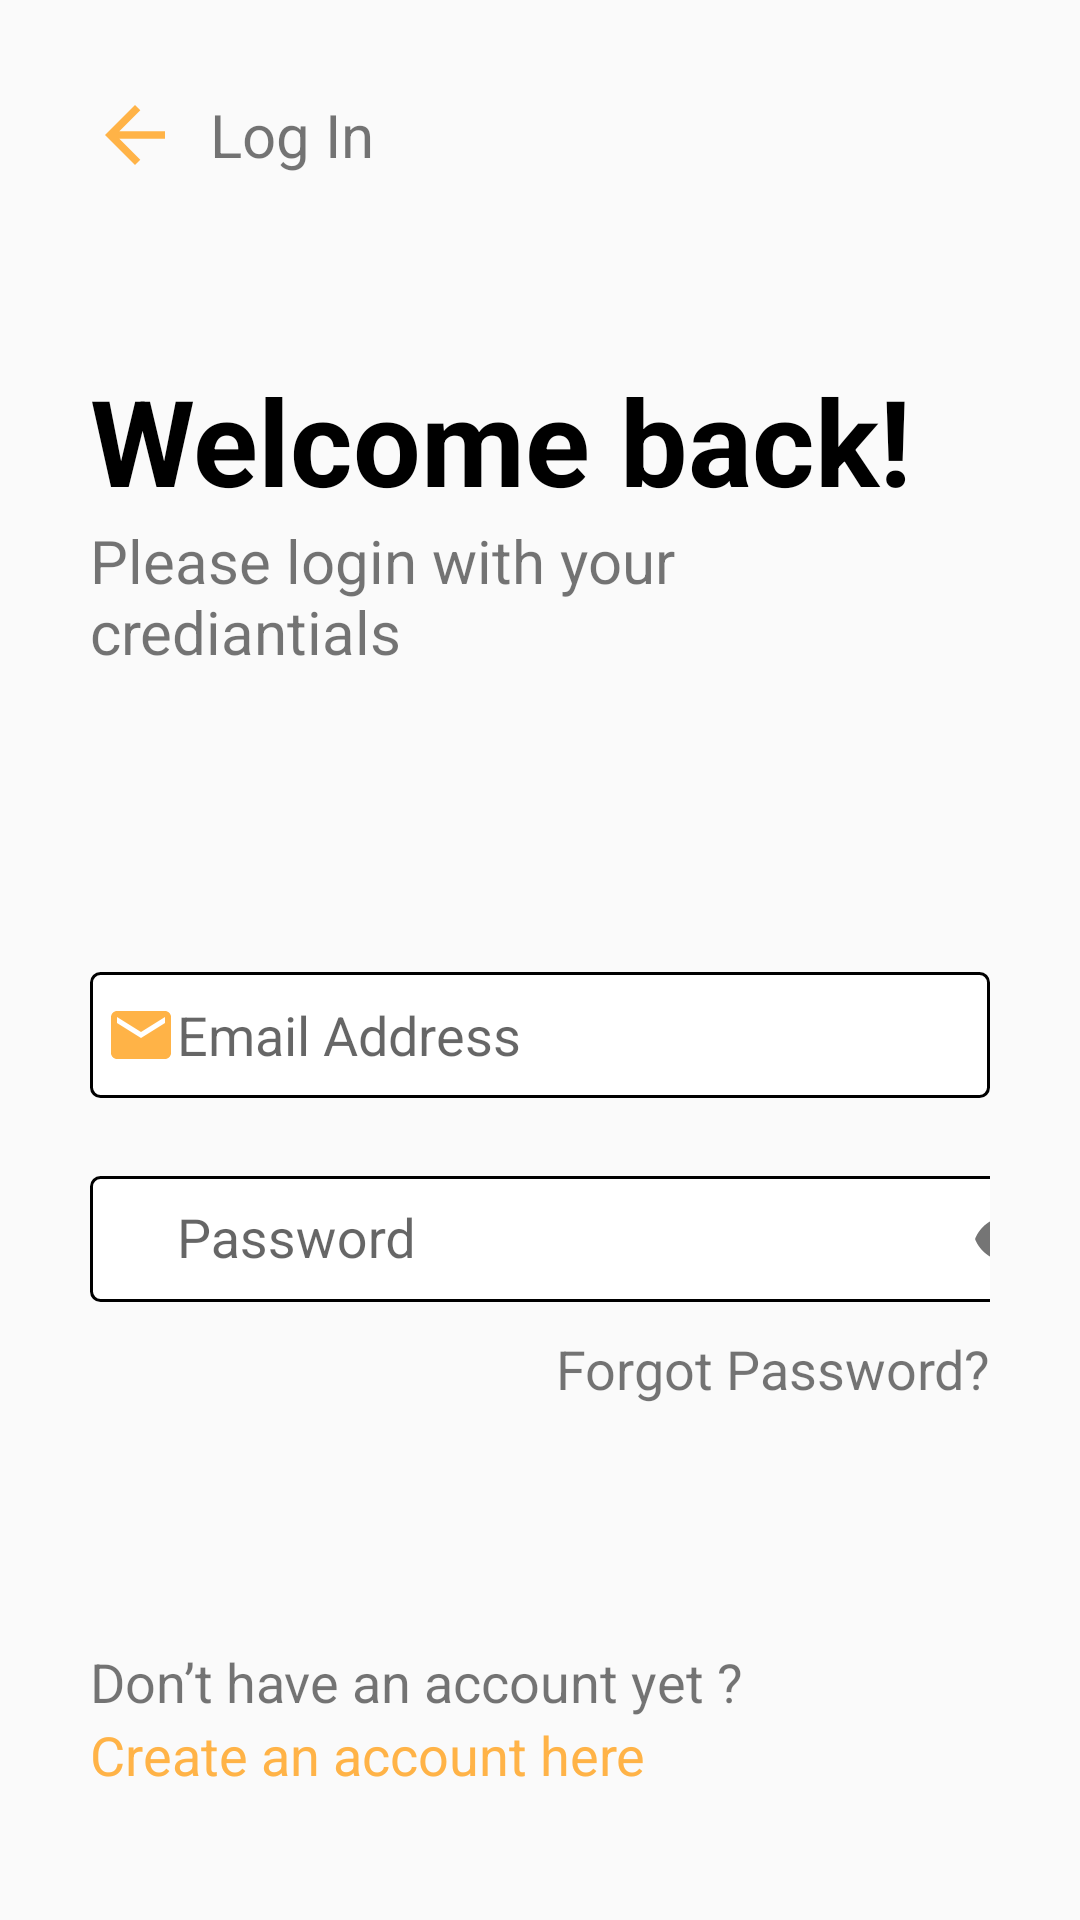

Screen size 1080×1920. Icon name, then its box in pixels as [x1, y1, x2, y2]:
arrow back: [105, 105, 165, 165]
